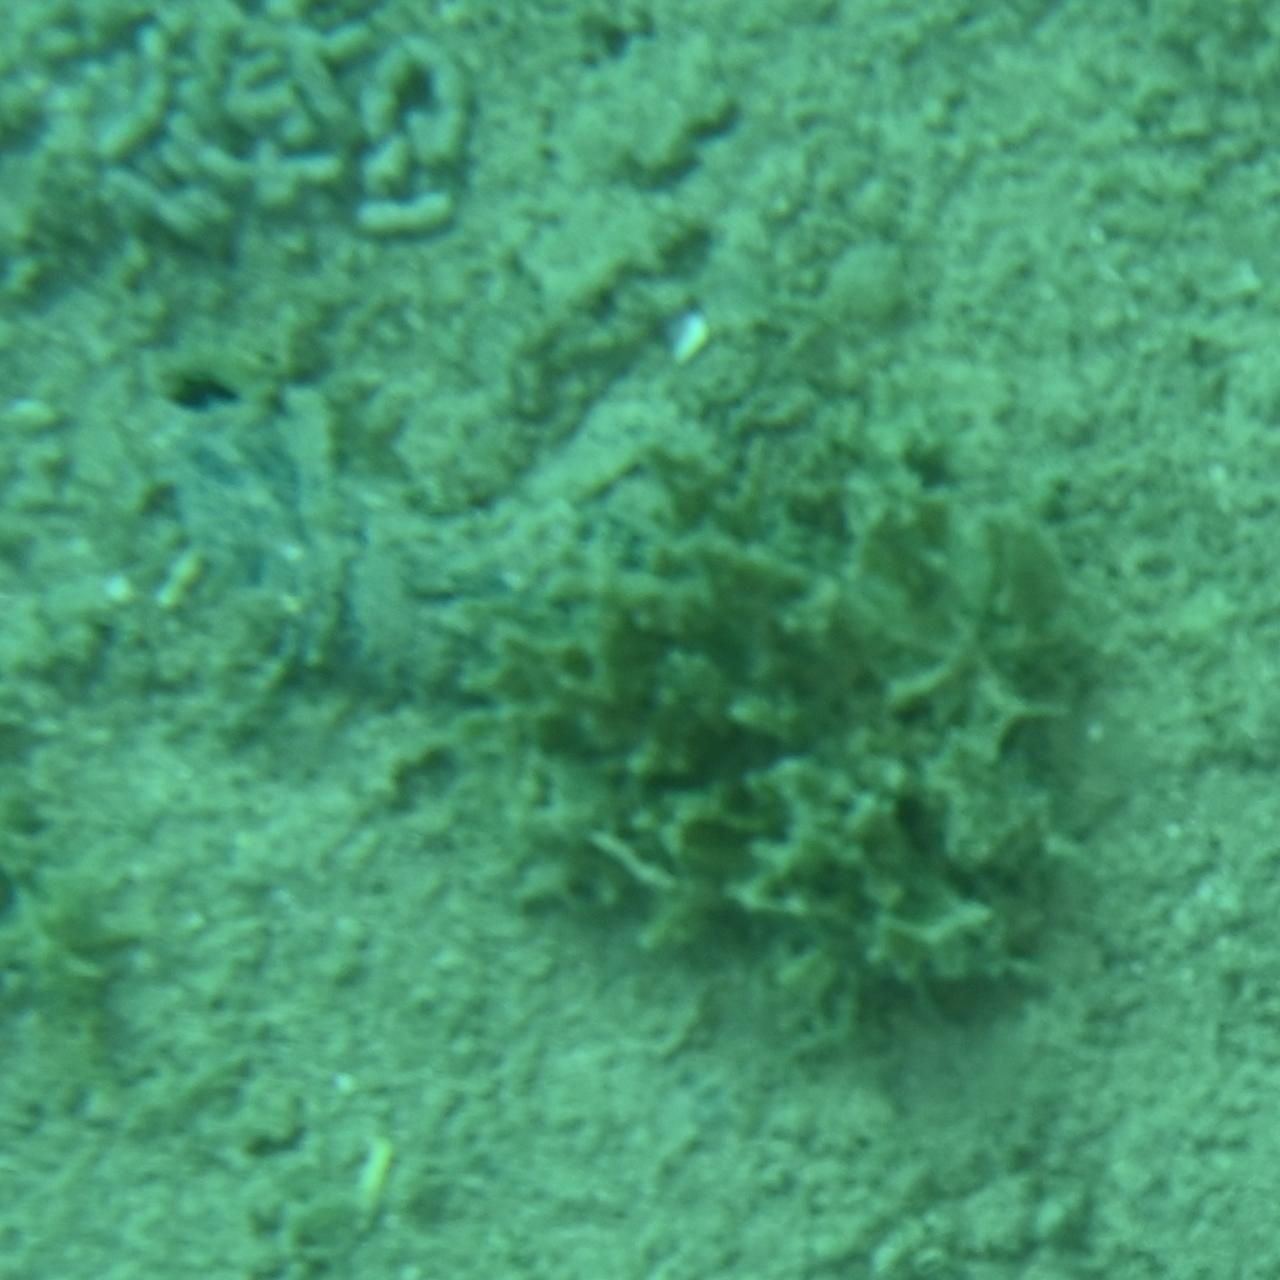Holothuria tubulosa: (128, 374, 817, 708)
Phaeophyceae -cfr Cystoseira-: (513, 406, 1103, 1073)
